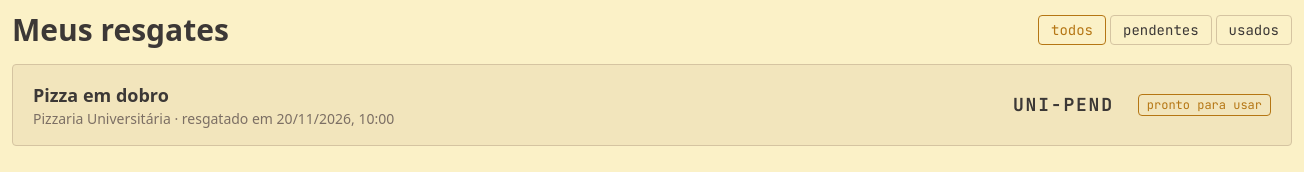
it: Histórico de resgates do estudante › avisa quando o filtro não tem resultados
Expected: the text "UNI-PEND" is shown, top-left (1013, 91), bottom-right (1114, 119)
Click the button "usados" at (1254, 30), box top-left (1216, 15), bottom-right (1292, 45)
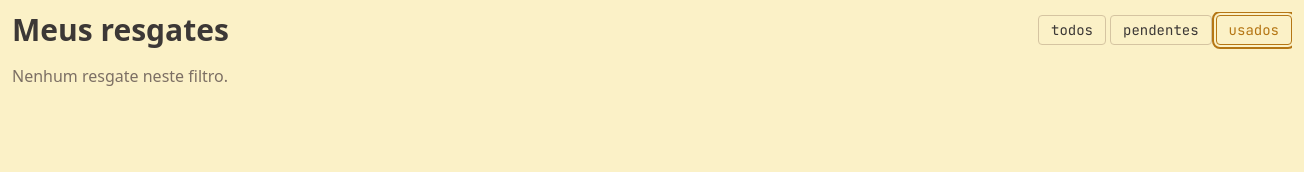
Expected: the text "Nenhum resgate neste filtro." is shown, top-left (12, 65), bottom-right (228, 87)
